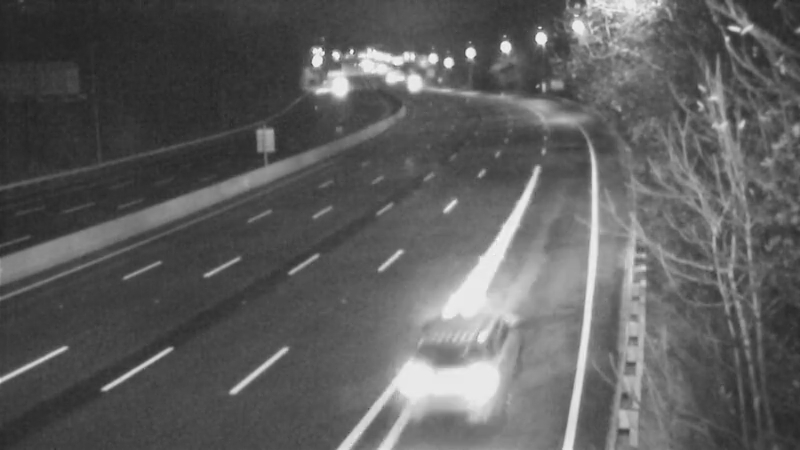vehicle: (389, 323, 499, 433), (386, 57, 436, 107)
